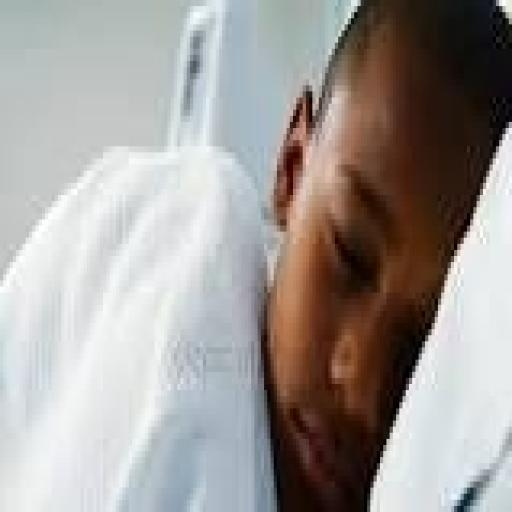sleeping: (0, 0, 509, 506)
